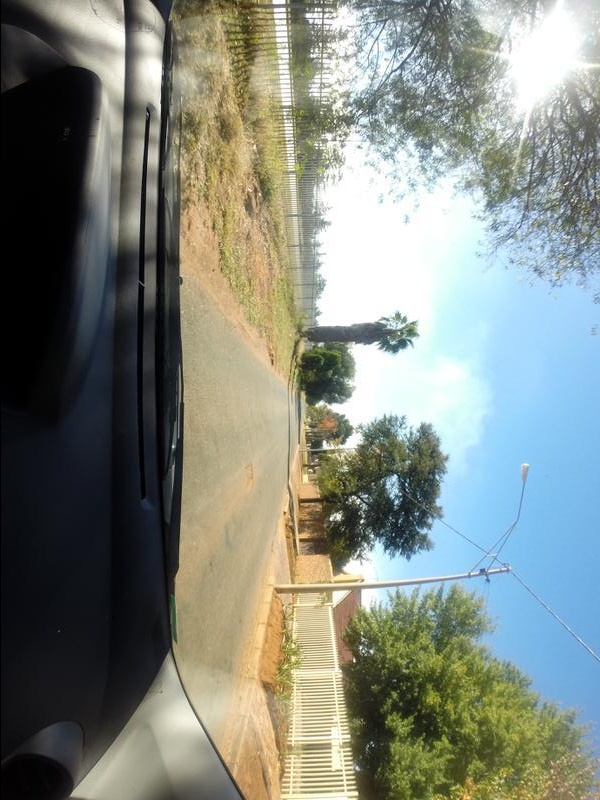pothole: (227, 460, 261, 496)
